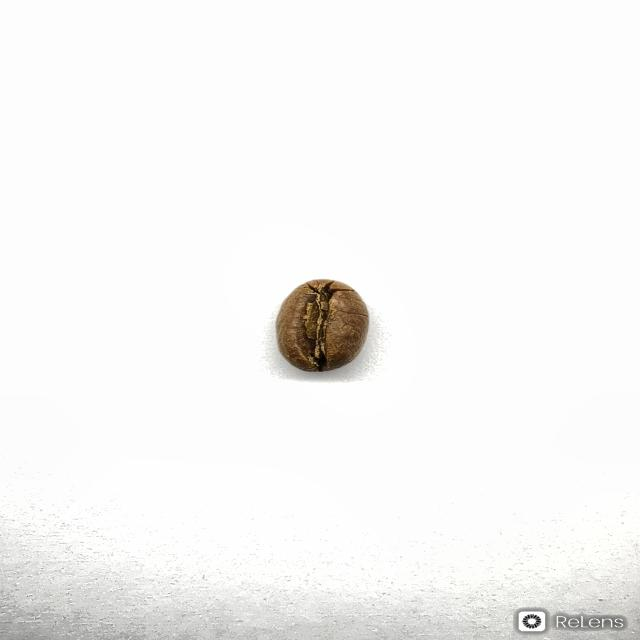Good bean: (274, 278, 370, 372)
